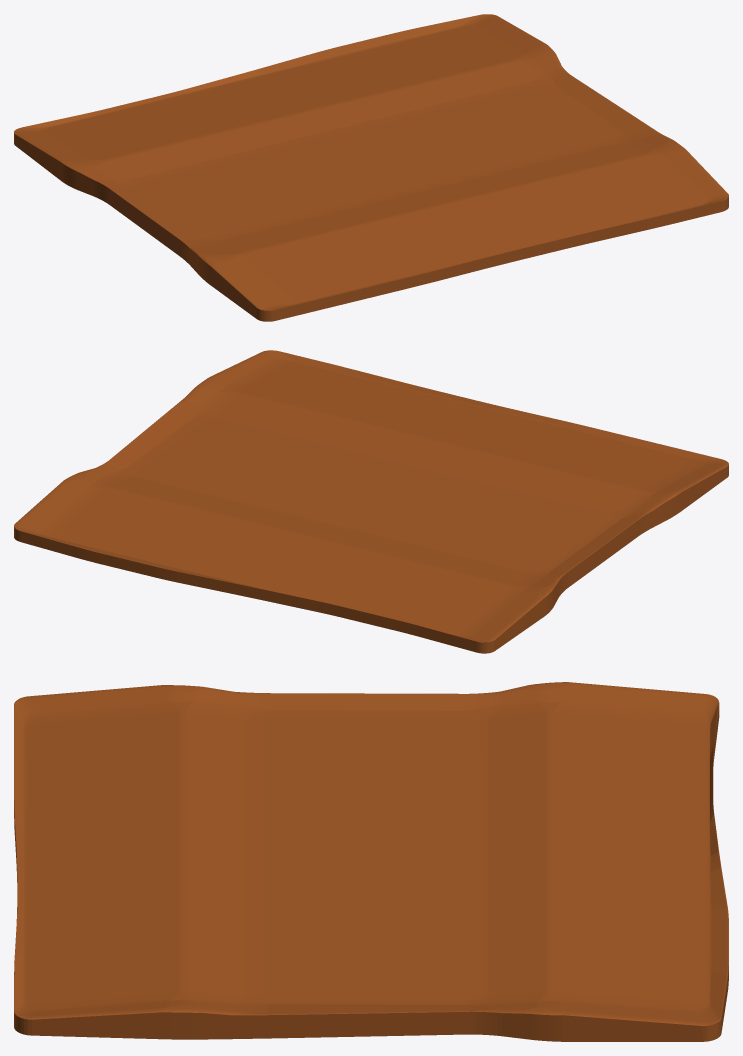
File: mud.fbx
The picture shows the model from 3 angles, top to bottom: view 1: azimuth 30°, elevation 25°; view 2: azimuth 150°, elevation 25°; view 3: azimuth 270°, elevation 25°; orthographic projection. The views are drawn at different scales.
Visible parts, largest first — view 1: Cube.004; view 2: Cube.004; view 3: Cube.004.
Boxes of the visible parts, x1,y1,x2,y2 form: Cube.004: (14,14,728,321); Cube.004: (14,350,728,653); Cube.004: (14,682,728,1041).
Size of the model in its own units: 581 by 23.07 by 526.
